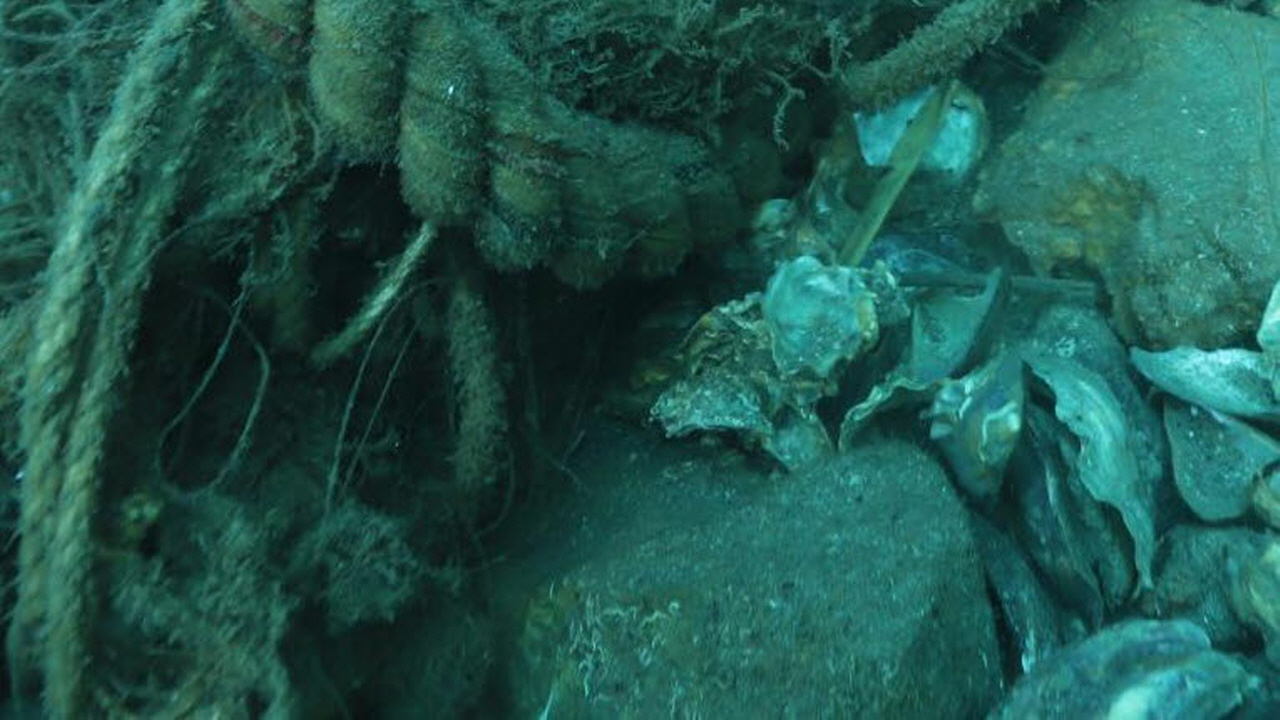bundle of ropes: (12, 0, 229, 720)
rope: (231, 0, 732, 284)
